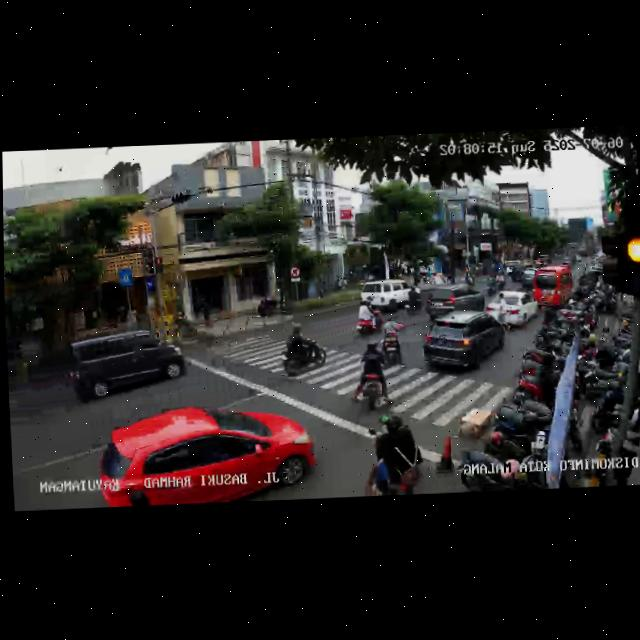car: (94, 400, 316, 508), (64, 325, 187, 404), (421, 308, 506, 373), (423, 281, 485, 321), (483, 289, 538, 329), (360, 278, 420, 313), (530, 263, 574, 309), (517, 267, 540, 290)
motorcycle: (361, 412, 425, 496), (349, 340, 391, 411), (278, 322, 327, 378), (379, 317, 407, 368), (352, 299, 381, 337), (403, 285, 423, 317)
person: (497, 292, 508, 333)
